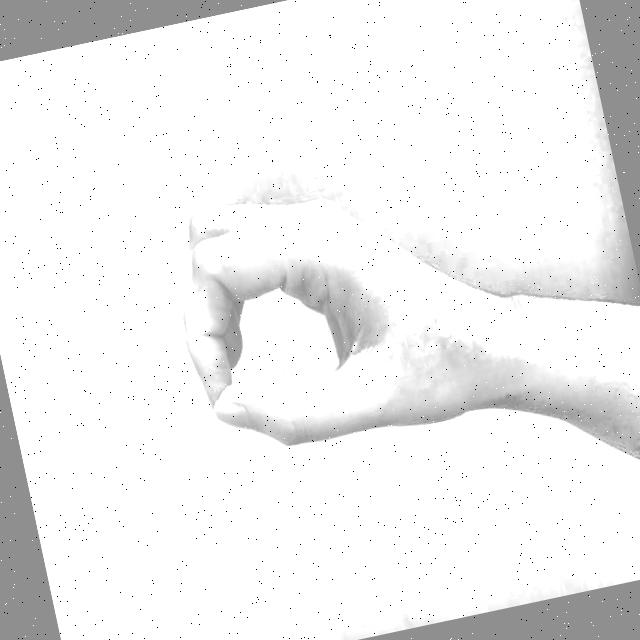O: (135, 134, 492, 496)
